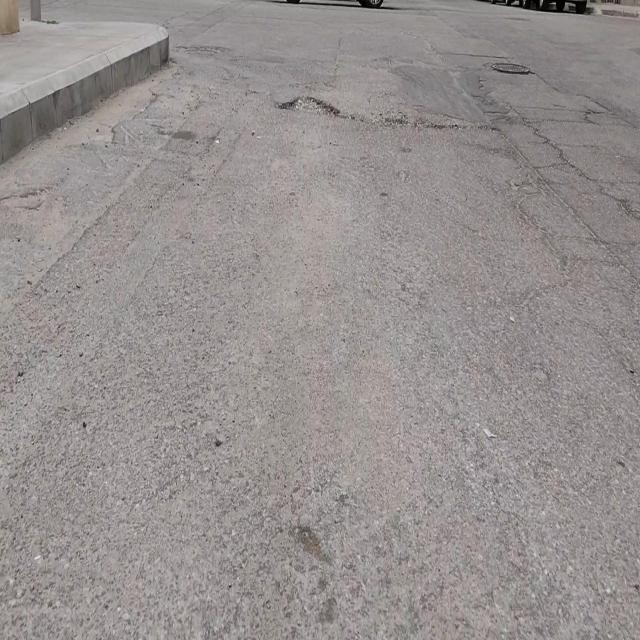Pothole: (278, 95, 341, 119)
